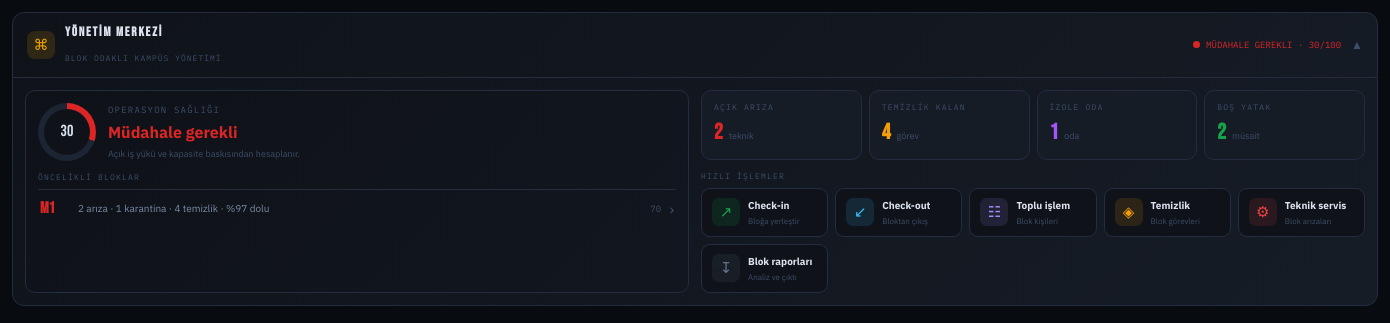
Scenario: CampusCommandCenter › başlıktan daraltılıp yeniden açılabilir
The image size is (1390, 323).
Click the button "YÖNETİM MERKEZİ". click: (114, 32)
box: [13,13,1377,78]
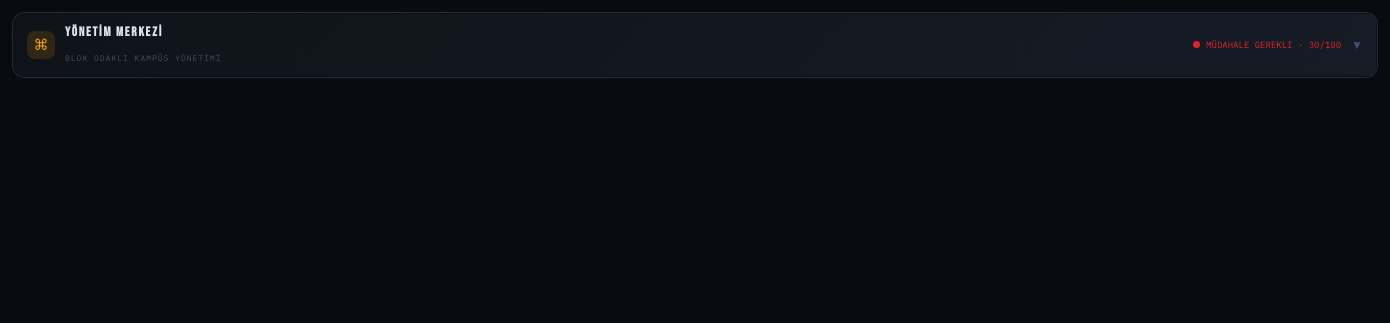
Check: the text "HIZLI İŞLEMLER" is gone
